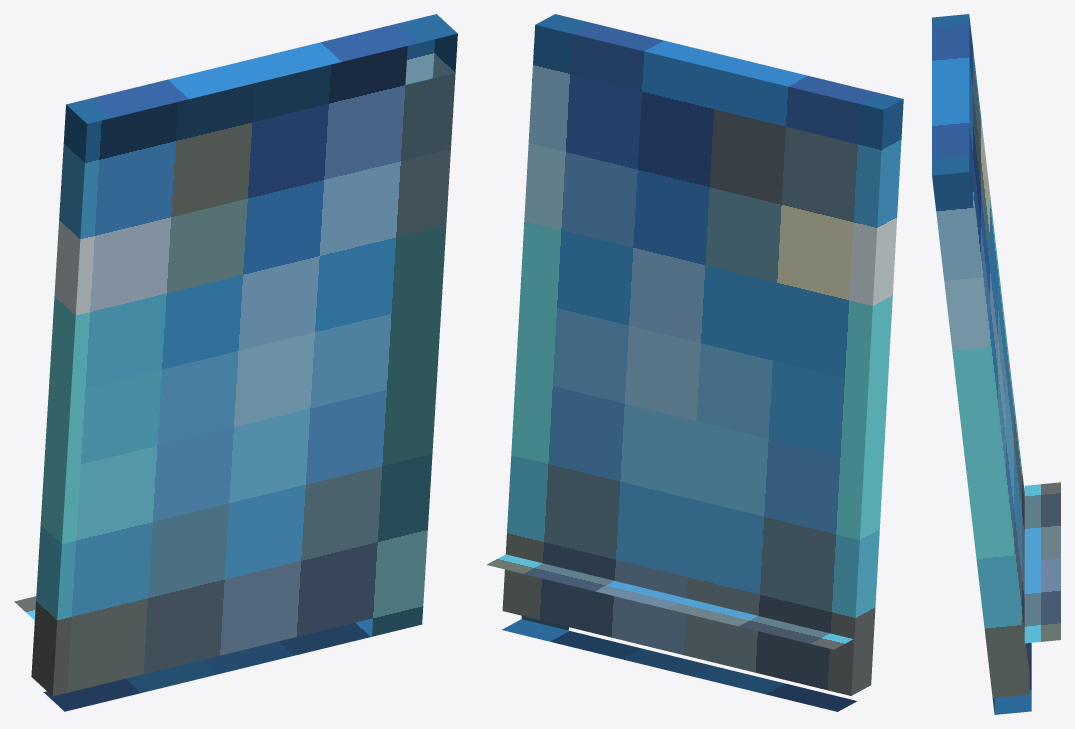
The model's file is sl_sky_cape.glb.
The picture shows the model from 3 angles, left to right: view 1: azimuth 30°, elevation 25°; view 2: azimuth 150°, elevation 25°; view 3: azimuth 270°, elevation 25°; orthographic projection. The views are drawn at different scales.
Parts seen in each view (by area): view 1: bb_sky_cape; view 2: bb_sky_cape; view 3: bb_sky_cape.
Boxes of the visible parts, x1,y1,x2,y2 form: bb_sky_cape: [14, 14, 457, 711]; bb_sky_cape: [486, 14, 903, 711]; bb_sky_cape: [932, 14, 1060, 714].
Size of the model in its own units: 0.625 by 1 by 0.2155.
1 material, 1 textured.
